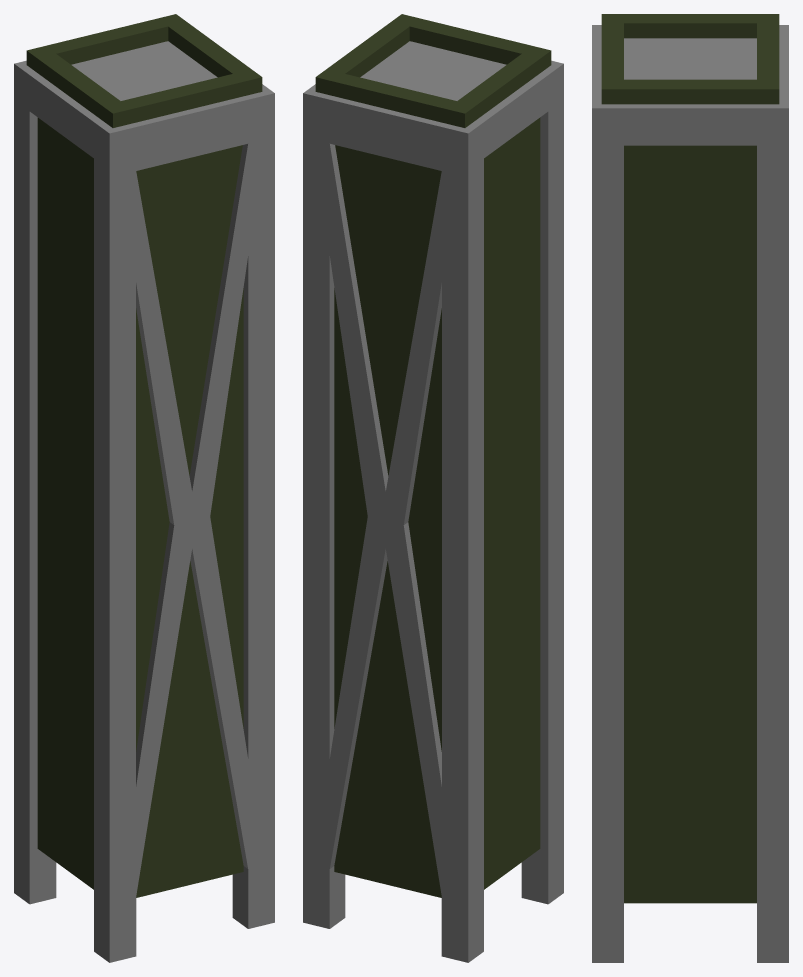
Rendered from campingchairfolded.fbx.
The picture shows the model from 3 angles, left to right: view 1: azimuth 30°, elevation 25°; view 2: azimuth 150°, elevation 25°; view 3: azimuth 270°, elevation 25°; orthographic projection. The views are drawn at different scales.
Visible parts, largest first — view 1: campingchairfolded; view 2: campingchairfolded; view 3: campingchairfolded.
Part boxes in pixels (x1,y1,x2,y2): campingchairfolded: (14, 14, 274, 962); campingchairfolded: (303, 14, 563, 962); campingchairfolded: (592, 14, 788, 962).
Size of the model in its own units: 0.1613 by 0.7871 by 0.1613.
